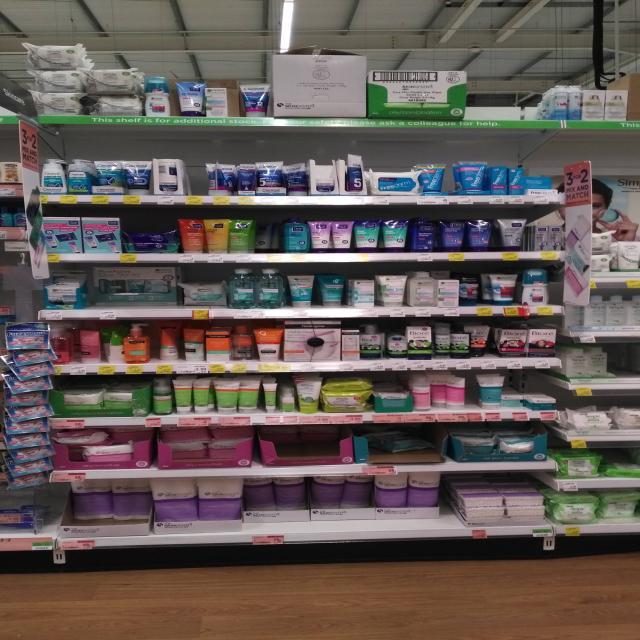void: (492, 49, 522, 129), (519, 49, 548, 129), (466, 51, 491, 129), (614, 342, 640, 390)
